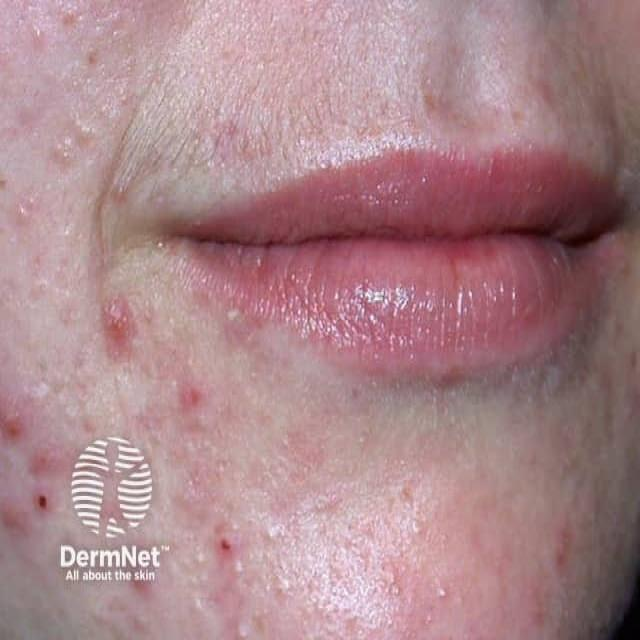Acne: (6, 9, 204, 550)
